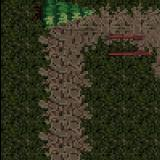Interaction: (99, 23, 144, 70)
Obstacle: (30, 0, 60, 29)
